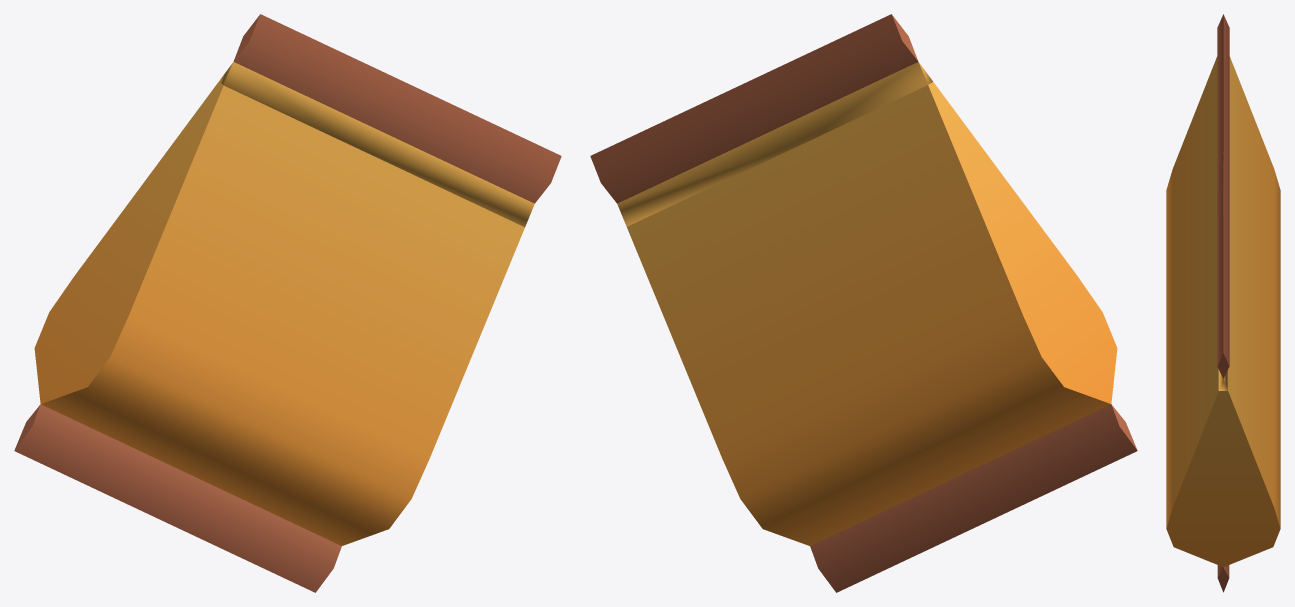
The model's file is SeedPotato.glb.
The picture shows the model from 3 angles, left to right: view 1: azimuth 30°, elevation 25°; view 2: azimuth 150°, elevation 25°; view 3: azimuth 270°, elevation 25°; orthographic projection. The views are drawn at different scales.
Parts seen in each view (by area): view 1: SeedPotato; view 2: SeedPotato; view 3: SeedPotato.
Part boxes in pixels (<box>): SeedPotato: <box>14,14,561,592</box>; SeedPotato: <box>590,14,1137,592</box>; SeedPotato: <box>1166,14,1280,592</box>.
Bounding box in the file's own units: 0.1122 × 0.116 × 0.0217.
2 materials, 2 textured.
